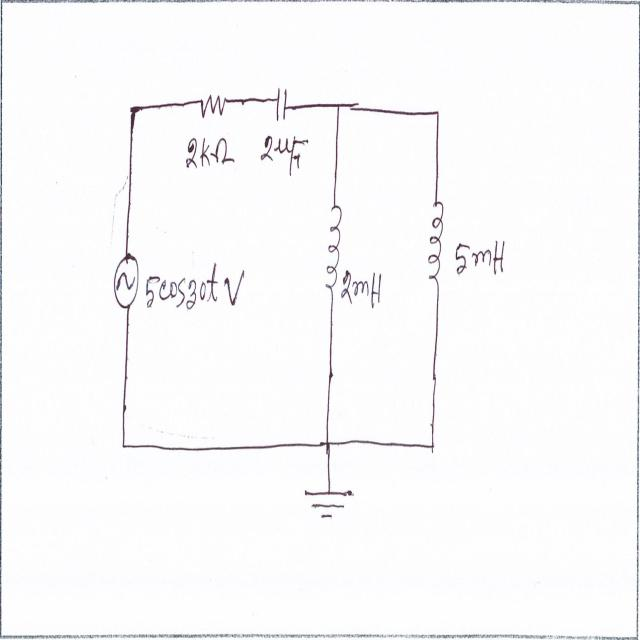ac_current: (112, 249, 140, 314)
capacitor: (273, 83, 290, 125)
ground: (301, 480, 359, 522)
inductor: (323, 197, 342, 299), (426, 196, 446, 286)
resistor: (199, 86, 227, 123)
